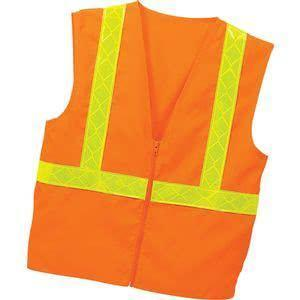vest: (26, 5, 273, 299)
